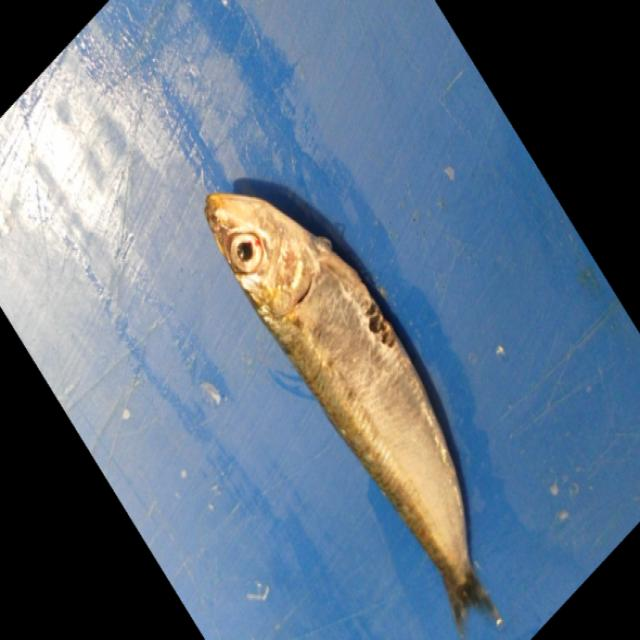Black-Sea-Sprat-tirsi-: (204, 187, 495, 624)
